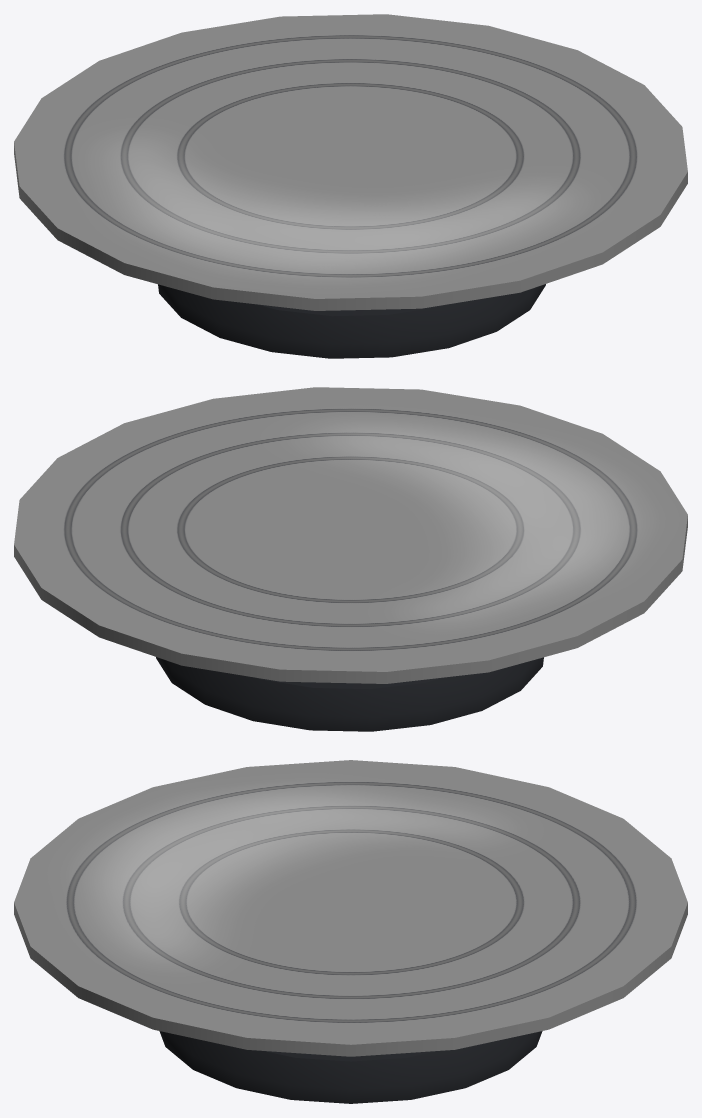
The model's file is Turntable.fbx.
The picture shows the model from 3 angles, top to bottom: view 1: azimuth 30°, elevation 25°; view 2: azimuth 150°, elevation 25°; view 3: azimuth 270°, elevation 25°; orthographic projection.
Visible parts, largest first — view 1: Turntable; view 2: Turntable; view 3: Turntable.
Boxes of the visible parts, x1=… form: Turntable: x1=14, y1=14, x2=687, y2=358; Turntable: x1=14, y1=387, x2=687, y2=731; Turntable: x1=14, y1=760, x2=687, y2=1103.
Bounding box in the file's own units: 8.82 × 1.72 × 8.82.
